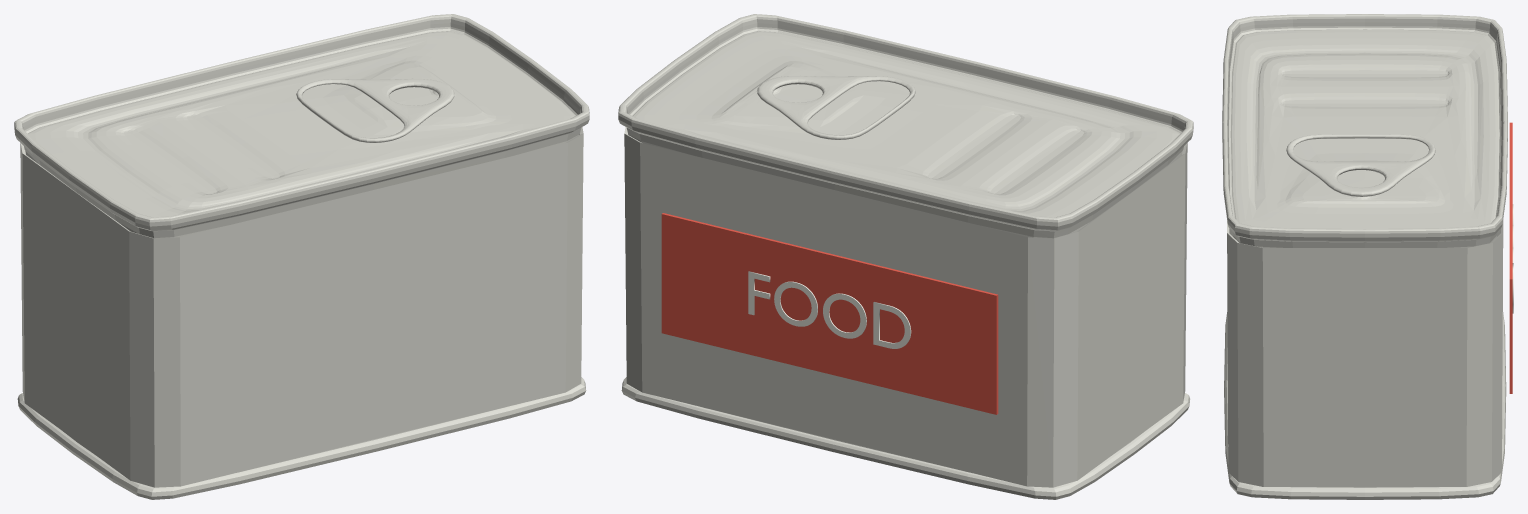
File: FoodCan.dae
The picture shows the model from 3 angles, left to right: view 1: azimuth 30°, elevation 25°; view 2: azimuth 150°, elevation 25°; view 3: azimuth 270°, elevation 25°; orthographic projection. The views are drawn at different scales.
Visible parts, largest first — view 1: Can_Of_Food_Spam; view 2: Can_Of_Food_Spam, FoodCan_label_panel, FoodCan_label_text; view 3: Can_Of_Food_Spam, FoodCan_label_panel.
Boxes of the visible parts, x1,y1,x2,y2 form: Can_Of_Food_Spam: [14, 14, 589, 499]; Can_Of_Food_Spam: [618, 14, 1193, 499]; FoodCan_label_panel: [661, 213, 998, 414]; FoodCan_label_text: [748, 271, 911, 348]; Can_Of_Food_Spam: [1222, 14, 1507, 499]; FoodCan_label_panel: [1509, 122, 1512, 393].
Size of the model in its own units: 0.2084 by 0.1179 by 0.1215.
